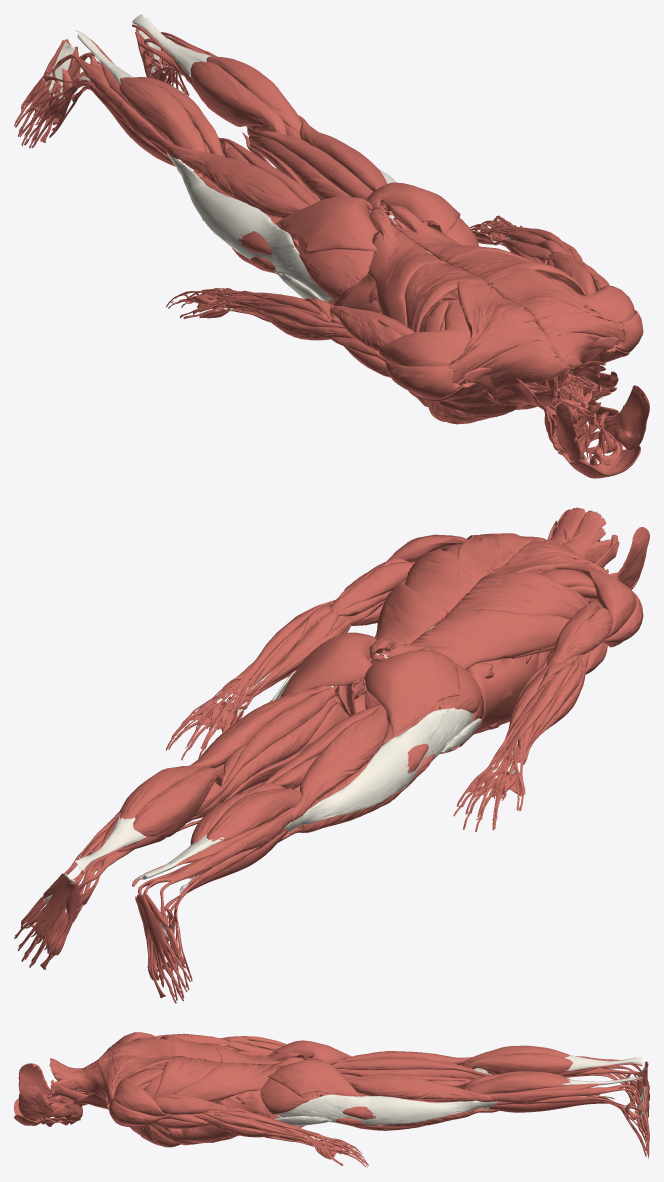
The model's file is anatomy-simplified-meshopt.glb.
The picture shows the model from 3 angles, top to bottom: view 1: azimuth 30°, elevation 25°; view 2: azimuth 150°, elevation 25°; view 3: azimuth 270°, elevation 25°; orthographic projection. The views are drawn at different scales.
Parts seen in each view (by area): view 1: right latissimus dorsi, right iliotibial tract, right gluteus maximus, long head of right biceps femoris, left latissimus dorsi, medial head of left gastrocnemius, ascending part of left trapezius, lateral head of right gastrocnemius, ascending part of right trapezius, descending part of right trapezius, spinal part of right deltoid, right gluteus medius (+28 smaller); view 2: right latissimus dorsi, right iliotibial tract, left latissimus dorsi, right gluteus maximus, long head of right biceps femoris, left gluteus maximus, medial head of left gastrocnemius, right external oblique, long head of left biceps femoris, lateral head of right gastrocnemius, left semimembranosus, left semitendinosus (+28 smaller); view 3: left latissimus dorsi, left iliotibial tract, long head of left biceps femoris, left gluteus maximus, medial head of right gastrocnemius, left external oblique, right latissimus dorsi, lateral head of left gastrocnemius, right semitendinosus, spinal part of left deltoid, left gluteus medius, left fibularis longus (+39 smaller).
Part boxes in pixels (x1,y1,x2,y2): right latissimus dorsi: [367, 224, 488, 332]; right iliotibial tract: [166, 152, 332, 302]; right gluteus maximus: [276, 196, 379, 253]; long head of right biceps femoris: [165, 143, 309, 218]; left latissimus dorsi: [389, 217, 585, 295]; medial head of left gastrocnemius: [190, 62, 287, 134]; ascending part of left trapezius: [463, 267, 606, 321]; lateral head of right gastrocnemius: [119, 77, 205, 173]; ascending part of right trapezius: [457, 269, 536, 356]; descending part of right trapezius: [477, 339, 585, 387]; spinal part of right deltoid: [379, 329, 472, 367]; right gluteus medius: [296, 246, 374, 300]; right latissimus dorsi: [388, 571, 585, 669]; right iliotibial tract: [284, 708, 473, 832]; left latissimus dorsi: [374, 550, 487, 656]; right gluteus maximus: [364, 650, 460, 737]; long head of right biceps femoris: [291, 704, 388, 821]; left gluteus maximus: [280, 632, 376, 697]; medial head of left gastrocnemius: [133, 767, 222, 837]; right external oblique: [459, 653, 547, 746]; long head of left biceps femoris: [190, 686, 331, 768]; lateral head of right gastrocnemius: [206, 788, 301, 841]; left semimembranosus: [195, 697, 336, 816]; left semitendinosus: [192, 687, 335, 817]; left latissimus dorsi: [154, 1056, 279, 1102]; left iliotibial tract: [277, 1094, 497, 1125]; long head of left biceps femoris: [346, 1076, 492, 1101]; left gluteus maximus: [268, 1058, 360, 1097]; medial head of right gastrocnemius: [465, 1054, 572, 1074]; left external oblique: [165, 1090, 270, 1145]; right latissimus dorsi: [160, 1035, 283, 1064]; lateral head of left gastrocnemius: [466, 1072, 569, 1094]; right semitendinosus: [332, 1058, 492, 1076]; spinal part of left deltoid: [113, 1077, 170, 1116]; left gluteus medius: [260, 1078, 317, 1114]; left fibularis longus: [490, 1088, 642, 1105].
Size of the model in its own units: 639 by 251 by 1672.
